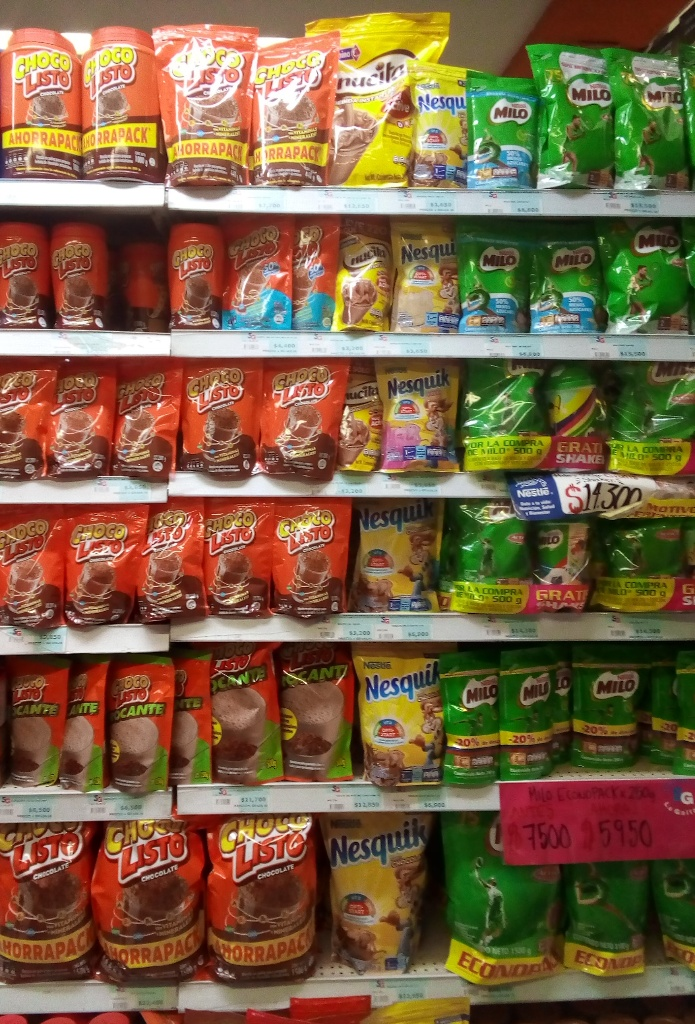COL0170102DYP25000: (6, 655, 68, 792)
COL0170102DYP50000: (197, 634, 288, 786)
COL0170103DYP1,500: (206, 816, 330, 982)
COL0170103DYP20000: (273, 496, 349, 623)
COL0170103DYP40000: (261, 36, 347, 193)
COL0170103TRR00100: (3, 23, 82, 180)
COL0170103TRR30000: (162, 220, 228, 333)
COL0170104DYP20000: (290, 216, 343, 333)
COL0170203DYP25000: (499, 644, 558, 779)
COL0170203DYP50000: (454, 493, 530, 594)
COL0170205DYP20000: (532, 214, 606, 331)
COL0170205DYP50000: (526, 43, 618, 190)
COL0170303DYP20000: (405, 59, 475, 186)
COL0170305DYP20000: (379, 354, 464, 475)
COL0170306DYP20000: (393, 231, 467, 334)
